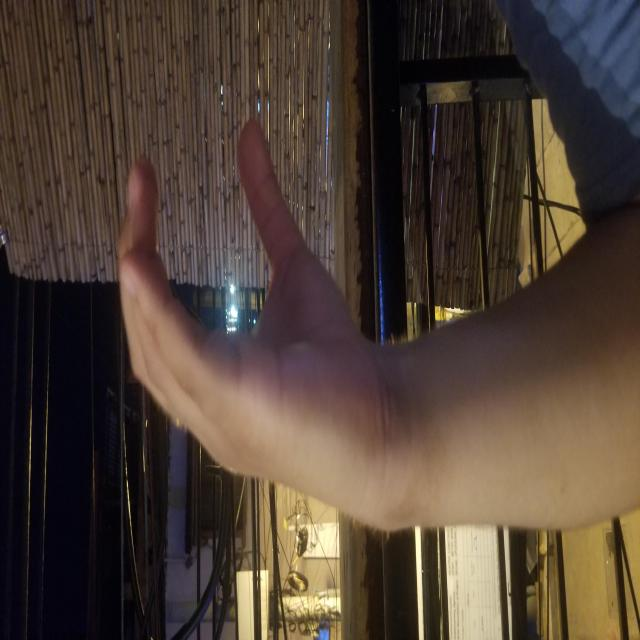C: (122, 118, 522, 362)
